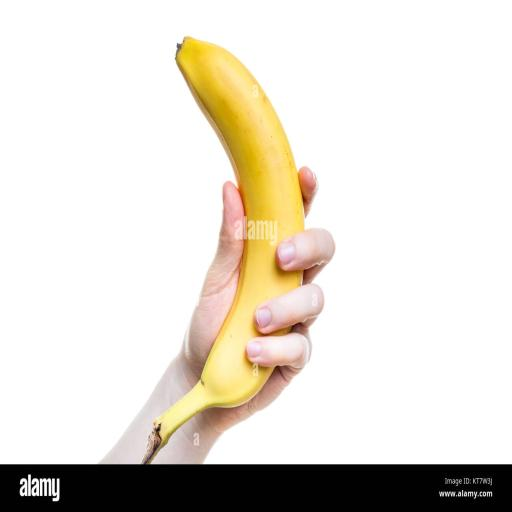banana: (143, 37, 304, 463)
